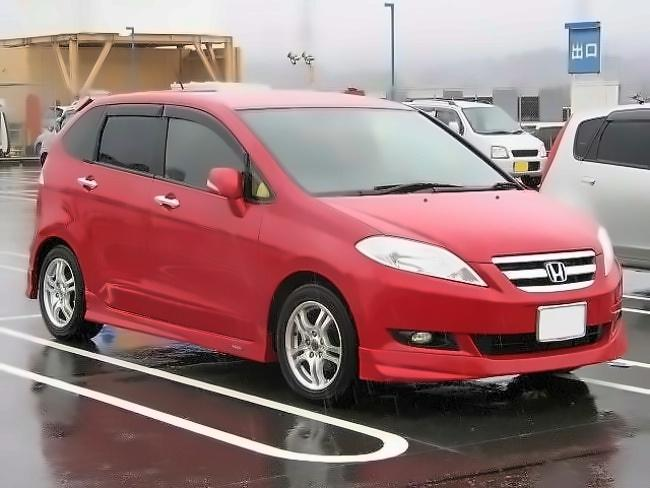Car hood: (322, 193, 611, 265)
Driver-s door - -F-R-: (159, 90, 268, 348)
Fender - -F-R-: (260, 185, 372, 360)
Fender - -R-R-: (20, 144, 93, 255)
Front bumper: (344, 269, 641, 398)
Headlight - -L-: (586, 220, 626, 290)
Headlight - -R-: (343, 229, 502, 295)
Passenger-s door - -R-R-: (76, 86, 164, 319)
Rear bumper: (19, 210, 56, 313)
Side bumper - -R-: (72, 289, 285, 374)
Side mirror - -R-: (177, 154, 250, 206)
